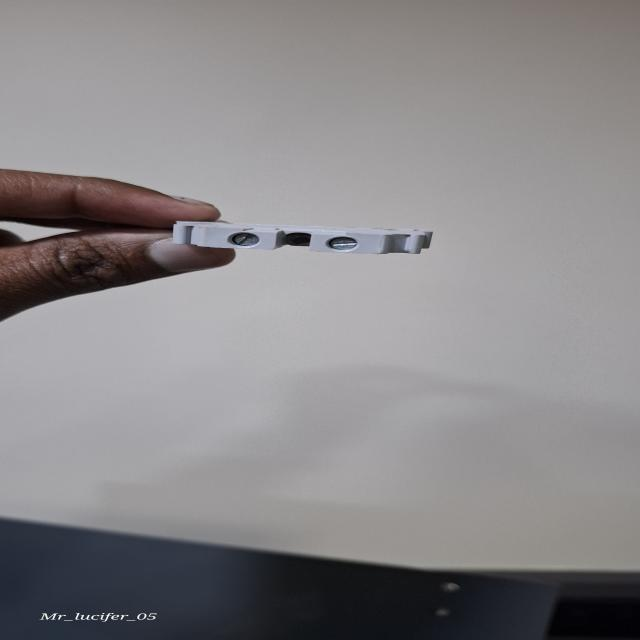Inverted: (165, 211, 444, 263)
